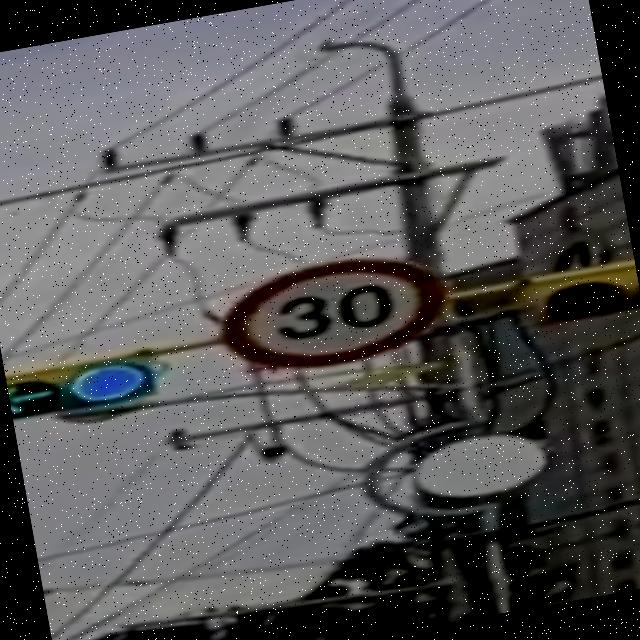Ograniczenie predkosci do 30: (214, 245, 453, 383)
